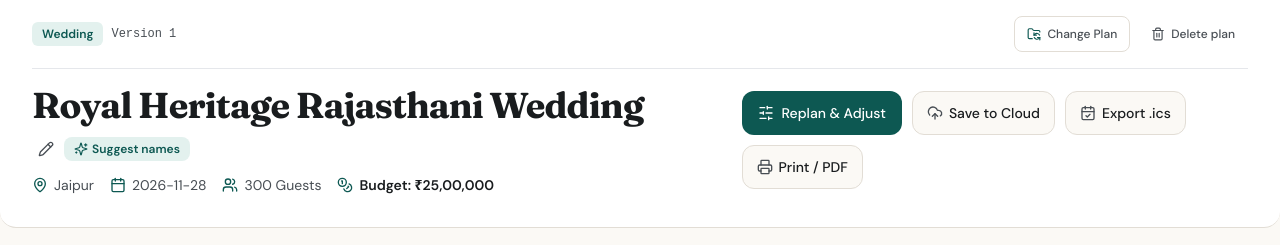
Scenario: Workspace Actions (Delete Plan, Change Plan, Inline Title Edit) › renders inline pencil button and allows editing celebration title
The width and height of the screenshot is (1280, 245).
Click the button named "Edit event name" at (46, 149), box [32,135,60,163]
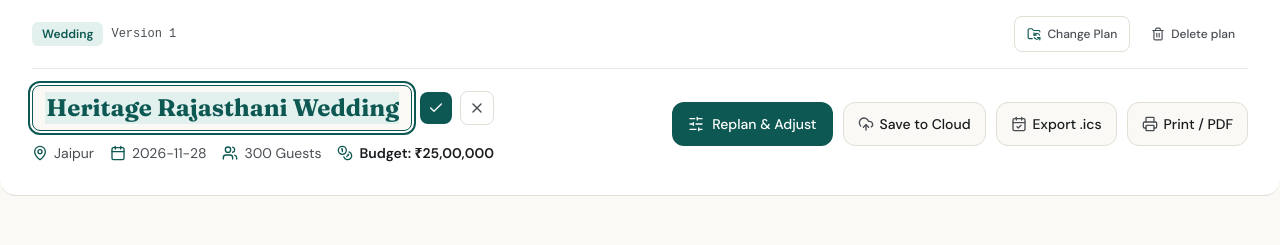
Now the field named "Edit celebration name" is shown
Replace the text in the field named "Edit celebration name" with "Royal Courtyard Celebration" at (222, 108), box [32,85,412,131]
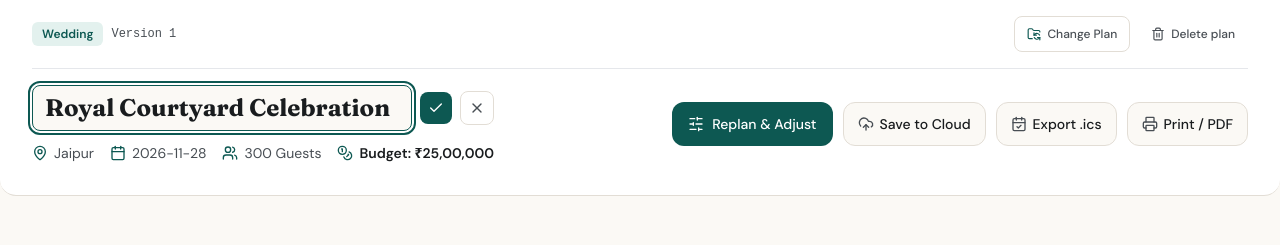
Press Enter in the field named "Edit celebration name", box [32,85,412,131]
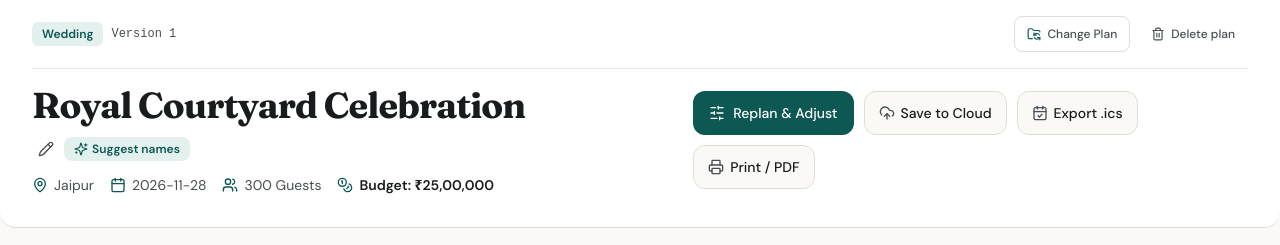
Now the heading "Royal Courtyard Celebration" is shown, box [32,85,525,125]
